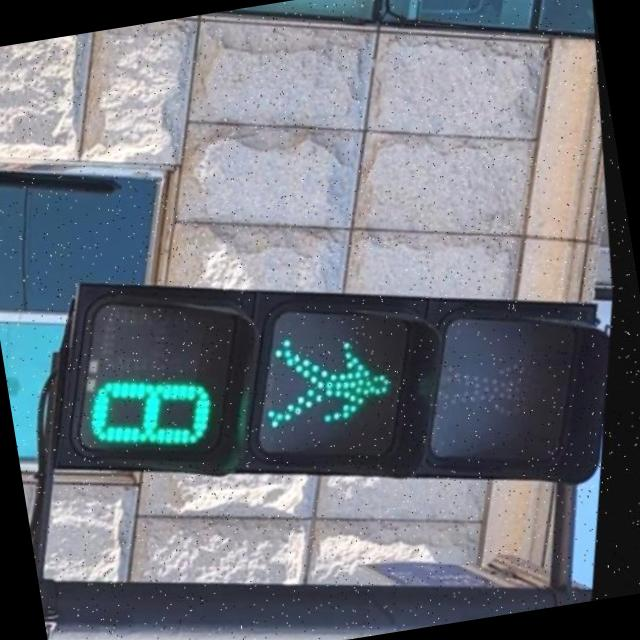green_light: (60, 274, 448, 502)
